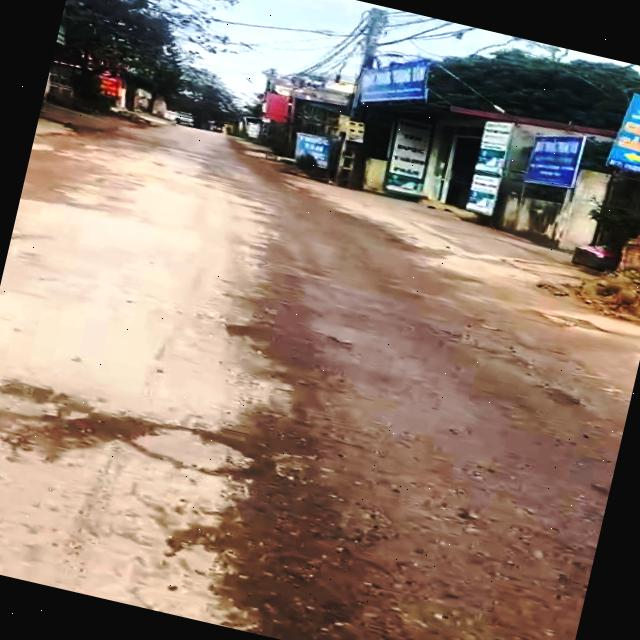pothole: (0, 366, 161, 483)
